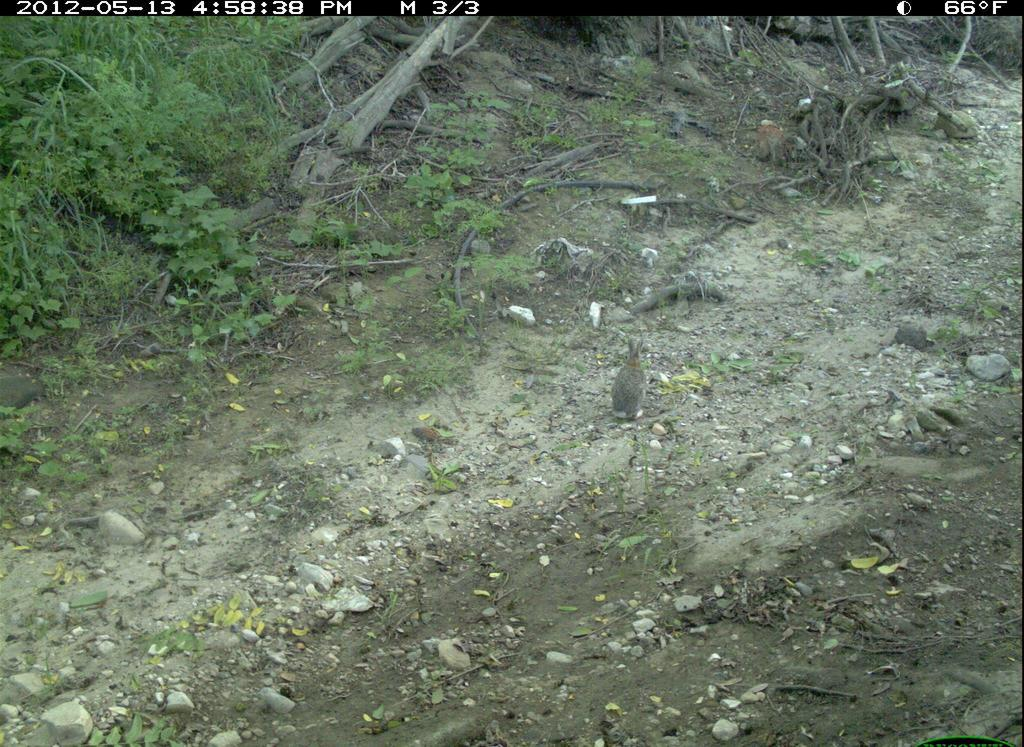rabbit: (584, 312, 696, 441)
